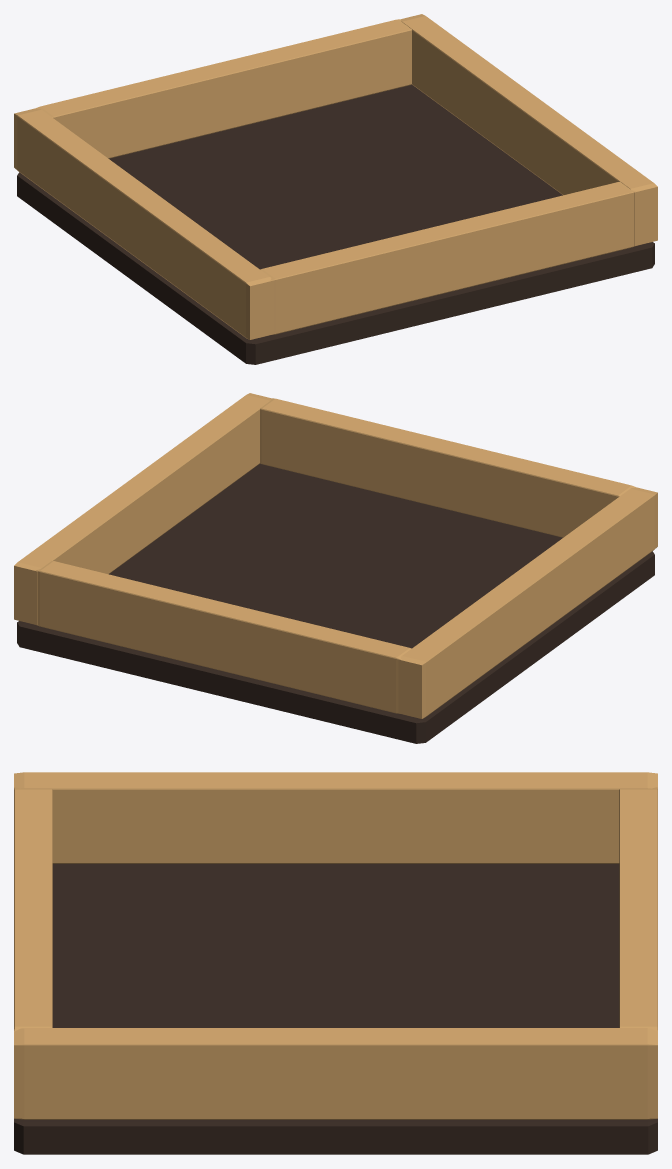
Rendered from pit_2m.glb.
3 views of the same model, one above another, from view 1: azimuth 30°, elevation 25°; view 2: azimuth 150°, elevation 25°; view 3: azimuth 270°, elevation 25° (orthographic). The views are drawn at different scales.
Visible parts, largest first — view 1: Dark pit floor.001, Pit edge.005, Pit edge.007, Pit edge.004, Pit edge.006; view 2: Dark pit floor.001, Pit edge.007, Pit edge.005, Pit edge.004, Pit edge.006; view 3: Dark pit floor.001, Pit edge.006, Pit edge.004, Pit edge.005, Pit edge.007.
Boxes of the visible parts, box(x1,y1,x2,y2) form: Dark pit floor.001: box(17, 84, 654, 364); Pit edge.005: box(260, 182, 636, 334); Pit edge.007: box(35, 19, 411, 158); Pit edge.004: box(14, 108, 273, 339); Pit edge.006: box(401, 14, 657, 246); Dark pit floor.001: box(17, 463, 654, 743); Pit edge.007: box(35, 561, 411, 713); Pit edge.005: box(260, 398, 636, 537); Pit edge.004: box(398, 487, 657, 718); Pit edge.006: box(14, 393, 270, 625); Dark pit floor.001: box(14, 864, 657, 1154); Pit edge.006: box(14, 1028, 657, 1119); Pit edge.004: box(14, 772, 657, 863); Pit edge.005: box(14, 787, 52, 1030); Pit edge.007: box(619, 787, 657, 1030).
Size of the model in its own units: 2 by 0.38 by 2.
